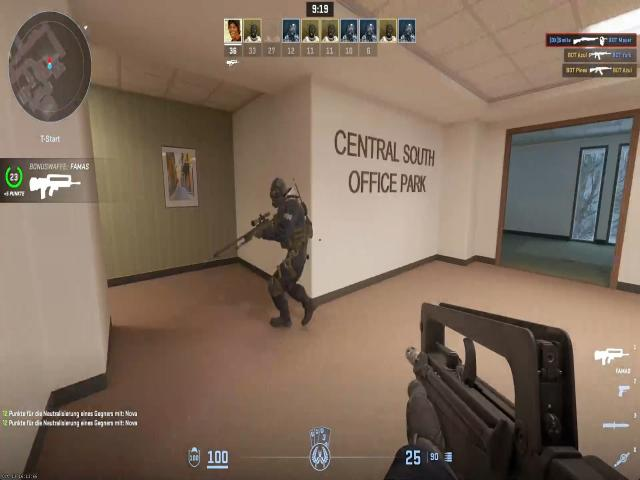CT: (262, 169, 308, 320)
CT-Head: (268, 173, 289, 210)
